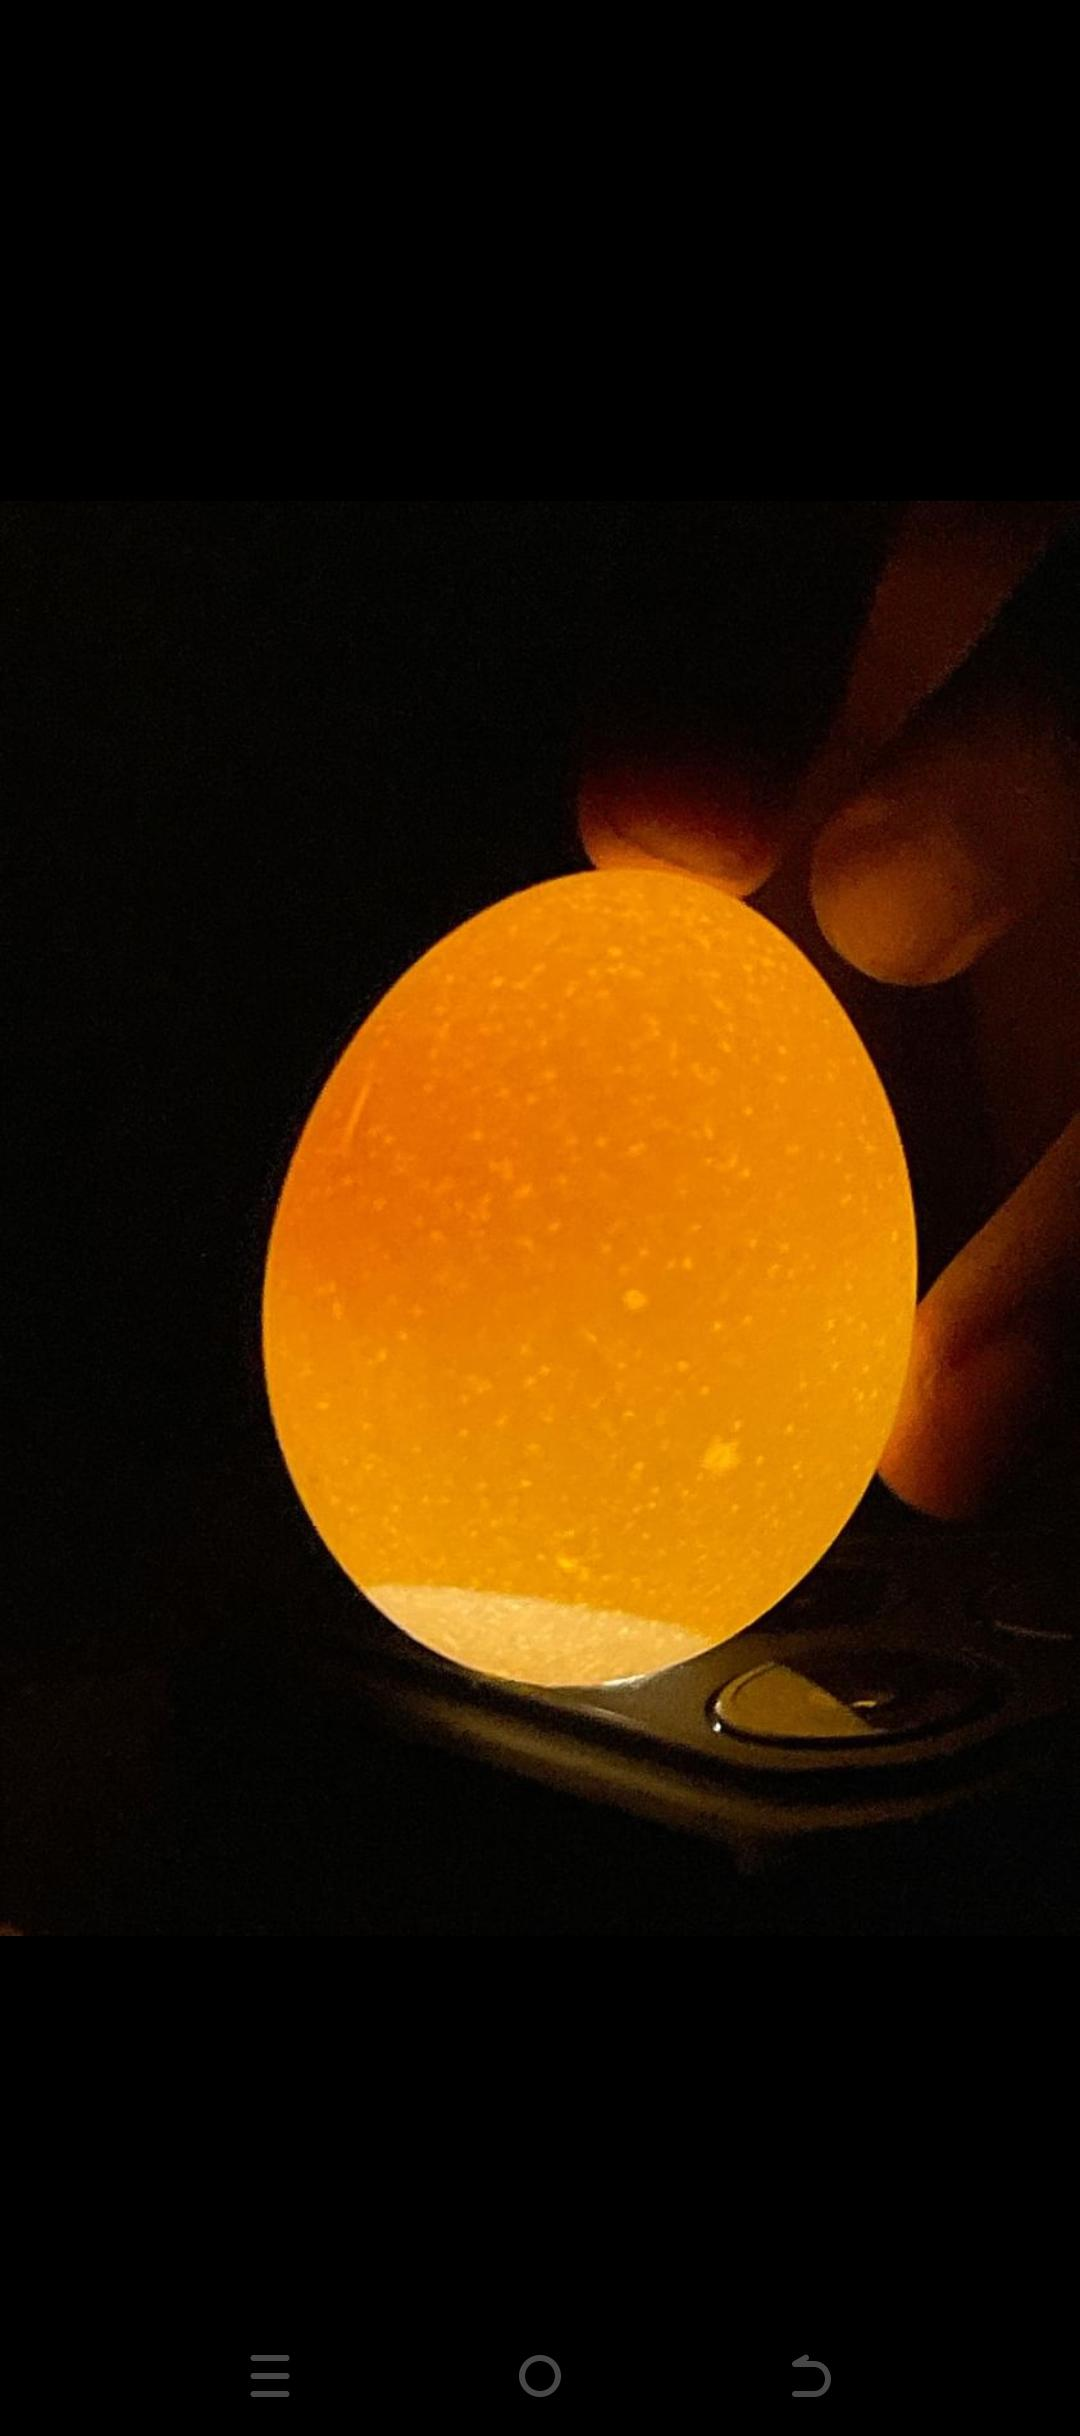A - Good: (236, 867, 929, 1737)
